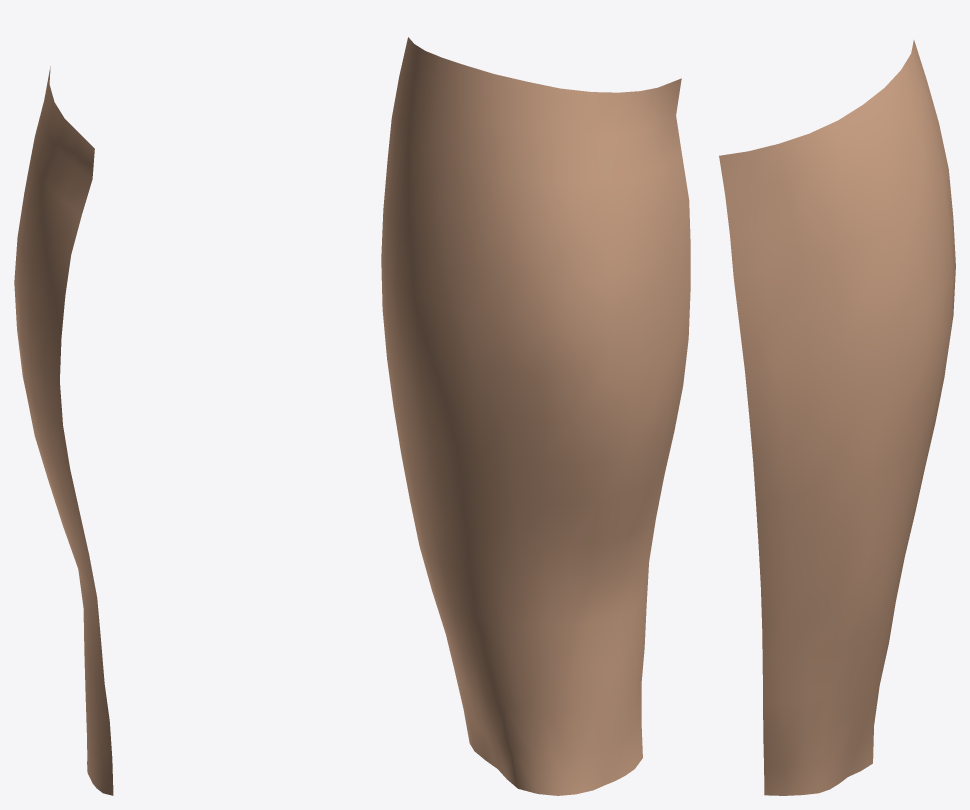
The model's file is posterior-region-of-leg-l.glb.
3 renders of one model, left to right at view 1: azimuth 30°, elevation 25°; view 2: azimuth 150°, elevation 25°; view 3: azimuth 270°, elevation 25°, orthographic. The views are drawn at different scales.
Parts seen in each view (by area): view 1: Posterior region of leg.l; view 2: Posterior region of leg.l; view 3: Posterior region of leg.l.
Part boxes in pixels (box(x1,y1,x2,y2)): Posterior region of leg.l: box(14, 66, 113, 795); Posterior region of leg.l: box(381, 37, 690, 795); Posterior region of leg.l: box(719, 40, 955, 795).
Bounding box in the file's own units: 0.1188 × 0.289 × 0.0853.
